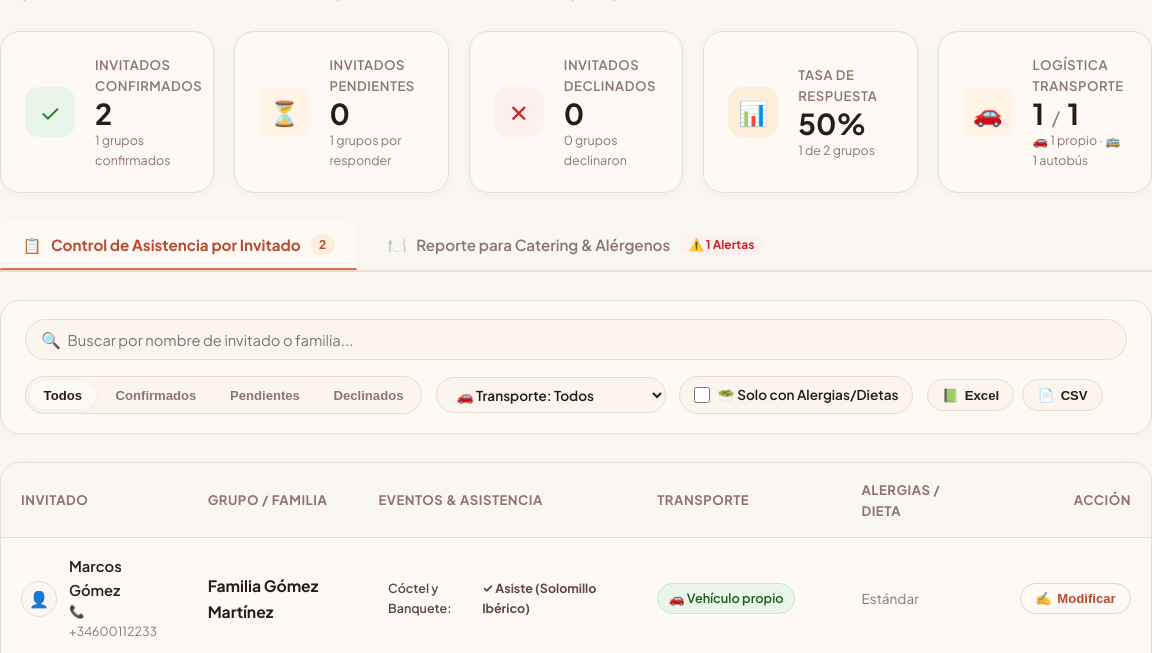
Test: AdminRsvpPage - Control RSVP & Exportación Catering › permite cambiar a la pestaña de Catering & Alérgenos y muestra el desglose
expect the text "Marcos Gómez" is shown: met, box 69,557 -> 122,599
What coordinates should you click on to do the following:
click the button "🍽️ Reporte para Catering & Alérgenos ⚠️ 1 Alertas"
I would click on:
 (575, 245)
Its box is 365,221 -> 786,268.
(page scrolled)
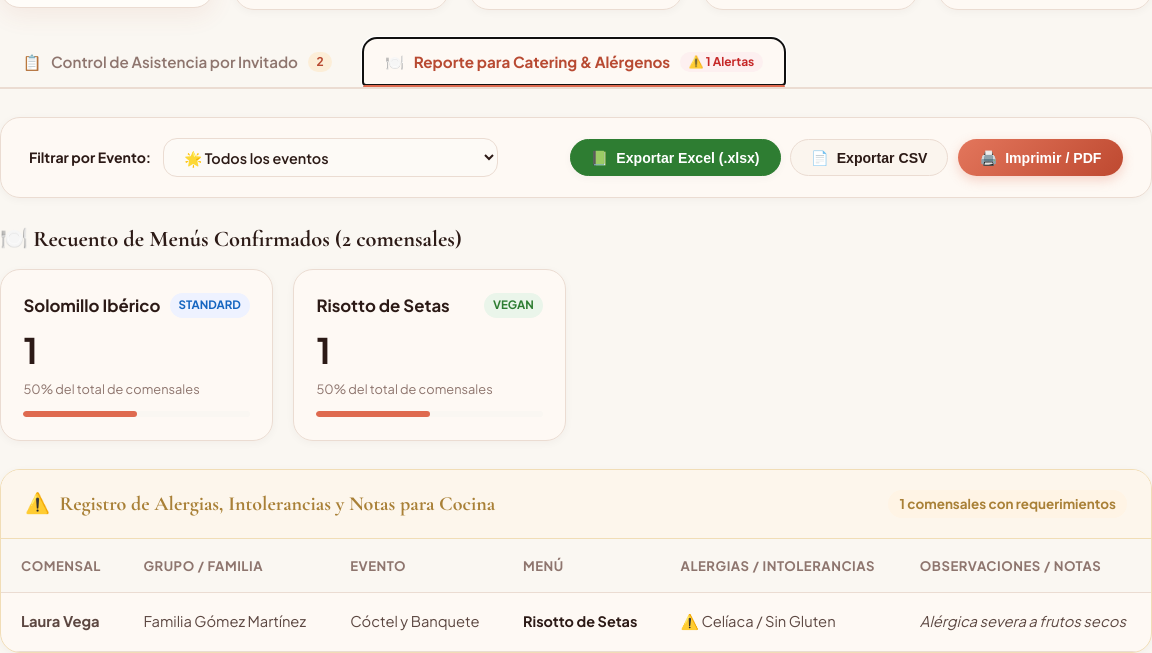
expect the text "Solomillo Ibérico" is shown: met, box 23,293 -> 160,320
expect the heading "🍽️ Recuento de Menús Confirmados (2 comensales)" is shown: met, box 0,225 -> 462,252
expect the heading "⚠️ Registro de Alergias, Intolerancias y Notas para Cocina" is shown: met, box 25,492 -> 495,516
